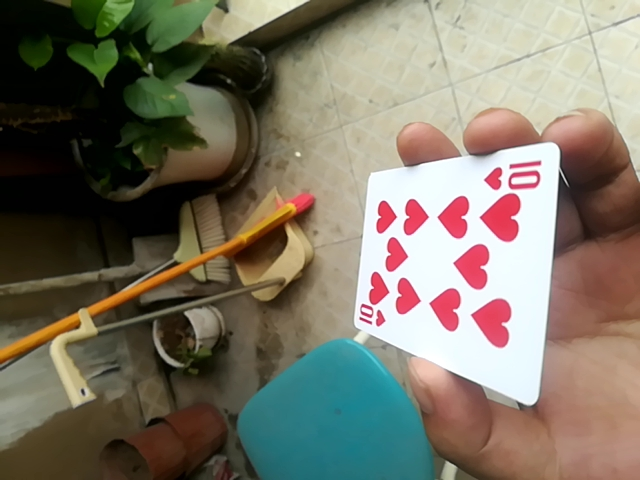hx 10: (346, 142, 551, 404)
